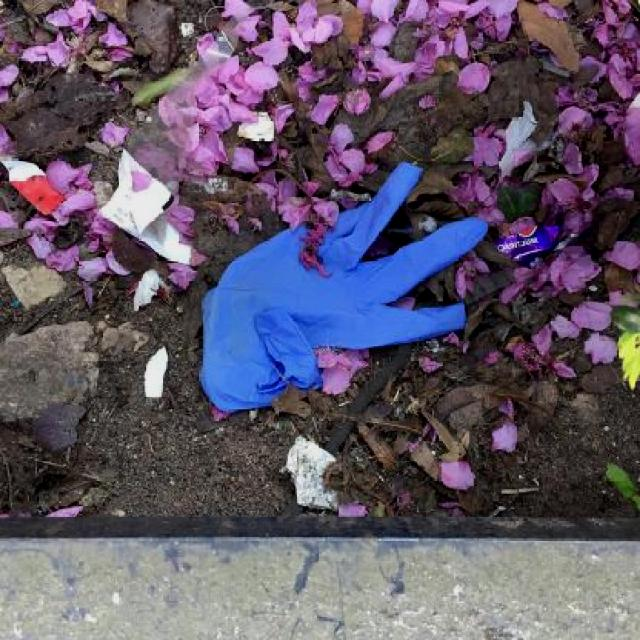glove: (190, 160, 496, 428)
